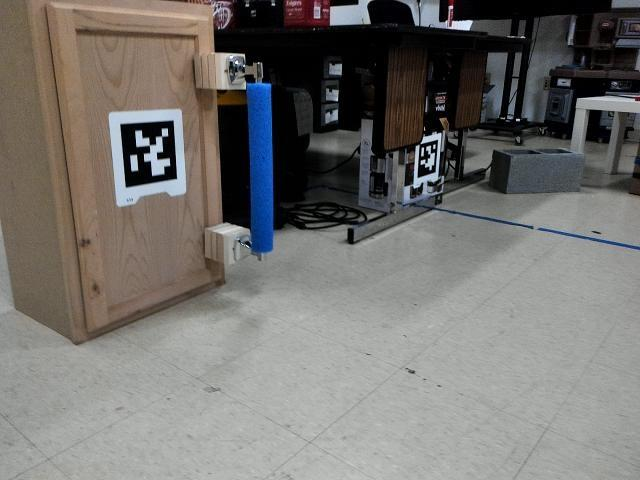noodle_handle: (235, 72, 282, 259)
